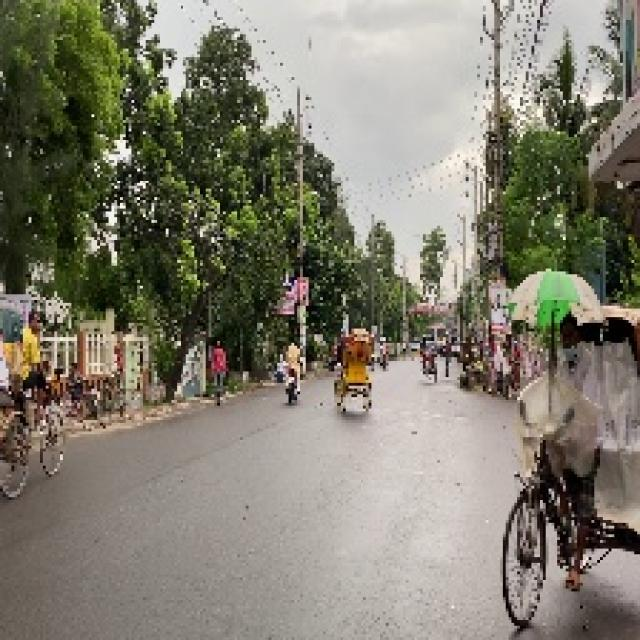car: (1, 284, 67, 495), (328, 318, 379, 419), (415, 327, 440, 388)
rickshaw: (497, 288, 635, 621), (2, 279, 67, 505), (334, 328, 377, 417), (419, 329, 440, 387)
